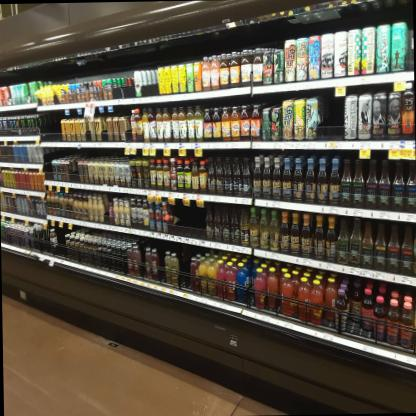empty_space: (318, 99, 333, 141), (333, 99, 344, 139), (42, 117, 58, 139), (57, 227, 65, 254), (70, 173, 78, 182)
